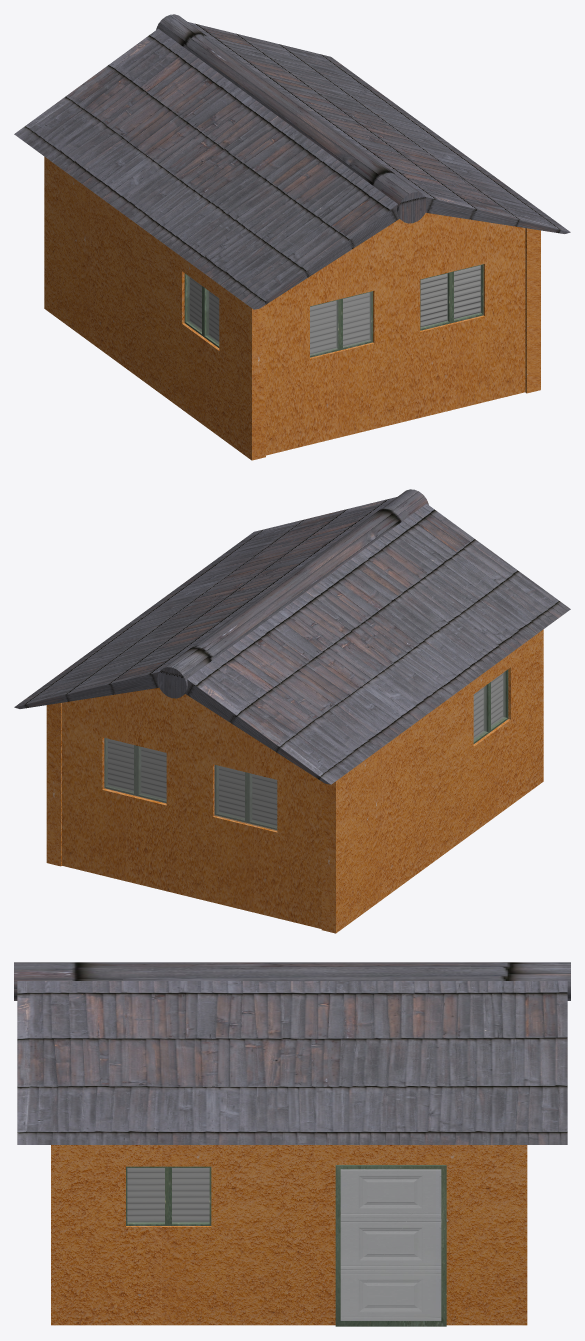
File: fim casa dos outros.fbx
The picture shows the model from 3 angles, top to bottom: view 1: azimuth 30°, elevation 25°; view 2: azimuth 150°, elevation 25°; view 3: azimuth 270°, elevation 25°; orthographic projection. The views are drawn at different scales.
Visible parts, largest first — view 1: pCube737, polySurface105, polySurface107, pCube739, pCylinder148, pCube759, pCube758, pCube753, polySurface127, pCube752, pCube751, pCube756; view 2: pCube737, polySurface106, polySurface107, pCube739, pCylinder148, pCube760, pCube761, polySurface127, pCube754, pCube755, pCube751, pCube756; view 3: pCube739, polySurface127, pCube770, pCylinder148, pCube750, pCube757, polySurface128, polySurface122, polySurface123.
Boxes of the visible parts, x1=… form: pCube737: x1=14, y1=28, x2=399, y2=309; polySurface105: x1=266, y1=212, x2=525, y2=455; polySurface107: x1=44, y1=156, x2=265, y2=460; pCube739: x1=188, y1=22, x2=570, y2=233; pCylinder148: x1=156, y1=14, x2=427, y2=223; pCube759: x1=310, y1=292, x2=371, y2=355; pCube758: x1=420, y1=265, x2=481, y2=327; pCube753: x1=420, y1=265, x2=480, y2=326; polySurface127: x1=525, y1=228, x2=540, y2=393; pCube752: x1=310, y1=293, x2=369, y2=353; pCube751: x1=187, y1=275, x2=219, y2=344; pCube756: x1=190, y1=277, x2=218, y2=341; pCube737: x1=185, y1=503, x2=570, y2=784; polySurface106: x1=62, y1=687, x2=321, y2=928; polySurface107: x1=321, y1=629, x2=543, y2=933; pCube739: x1=14, y1=497, x2=396, y2=708; pCylinder148: x1=157, y1=489, x2=428, y2=698; pCube760: x1=214, y1=764, x2=277, y2=830; pCube761: x1=104, y1=738, x2=166, y2=803; polySurface127: x1=46, y1=703, x2=61, y2=866; pCube754: x1=108, y1=739, x2=166, y2=798; pCube755: x1=219, y1=766, x2=276, y2=825; pCube751: x1=473, y1=671, x2=505, y2=740; pCube756: x1=474, y1=673, x2=502, y2=737; pCube739: x1=17, y1=981, x2=567, y2=1144; polySurface127: x1=51, y1=1145, x2=527, y2=1325; pCube770: x1=340, y1=1169, x2=441, y2=1320; pCylinder148: x1=14, y1=962, x2=570, y2=1000; pCube750: x1=127, y1=1168, x2=209, y2=1222; pCube757: x1=127, y1=1168, x2=209, y2=1221; polySurface128: x1=335, y1=1165, x2=446, y2=1326; polySurface122: x1=168, y1=1166, x2=211, y2=1225; polySurface123: x1=126, y1=1166, x2=168, y2=1225.
Size of the model in its own units: 13.91 by 10.28 by 18.45.
